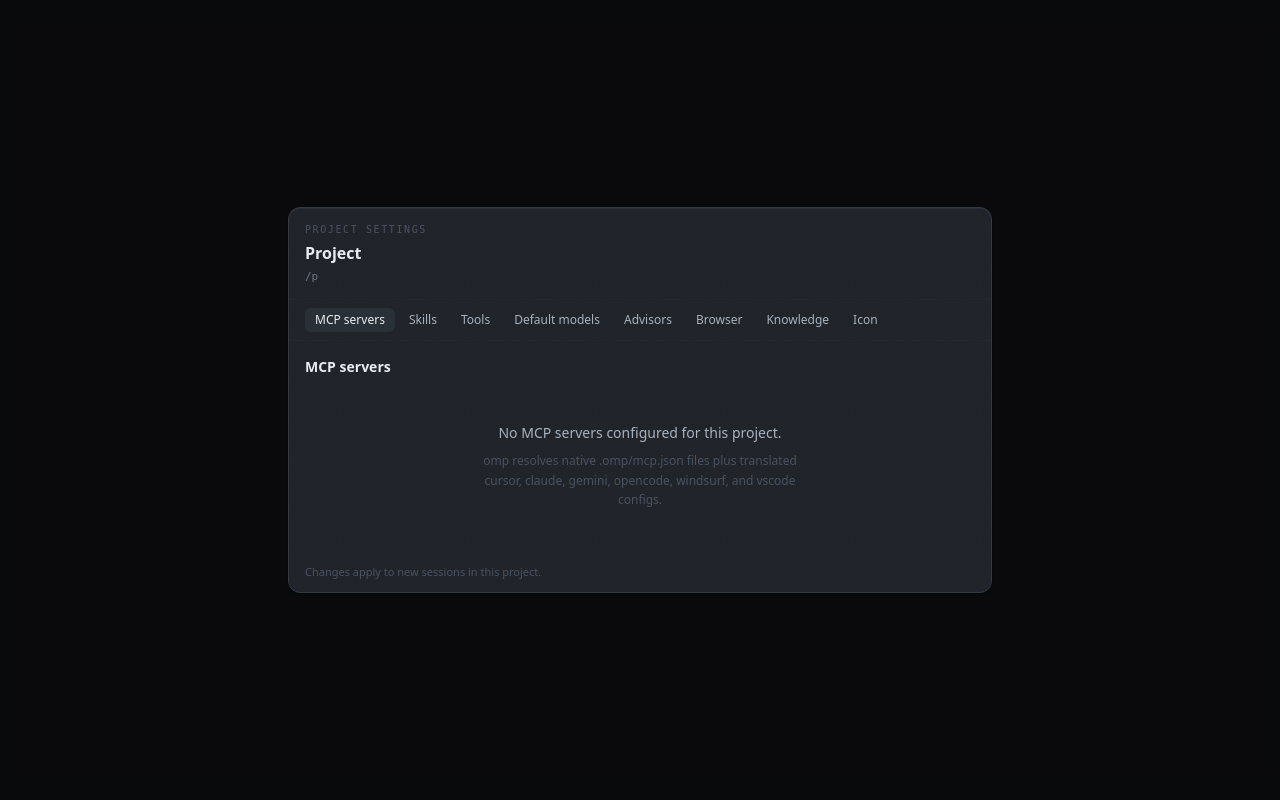
Test: ProjectSettings › disables the vault select while the Knowledge home is unset
The image size is (1280, 800).
Click the tab "Knowledge" at (798, 320), box [756, 308, 839, 332]
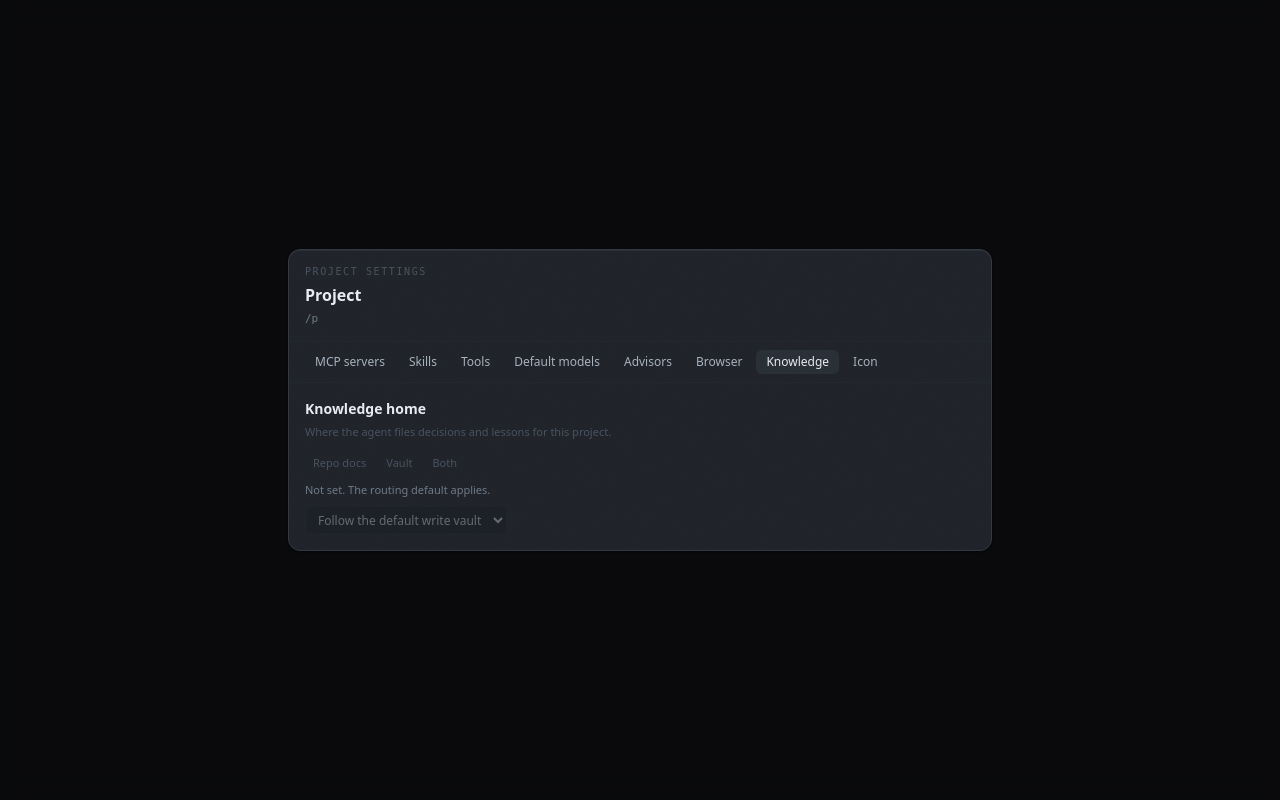
Check: the dropdown named "Knowledge home" is disabled, box [305, 506, 507, 534]
